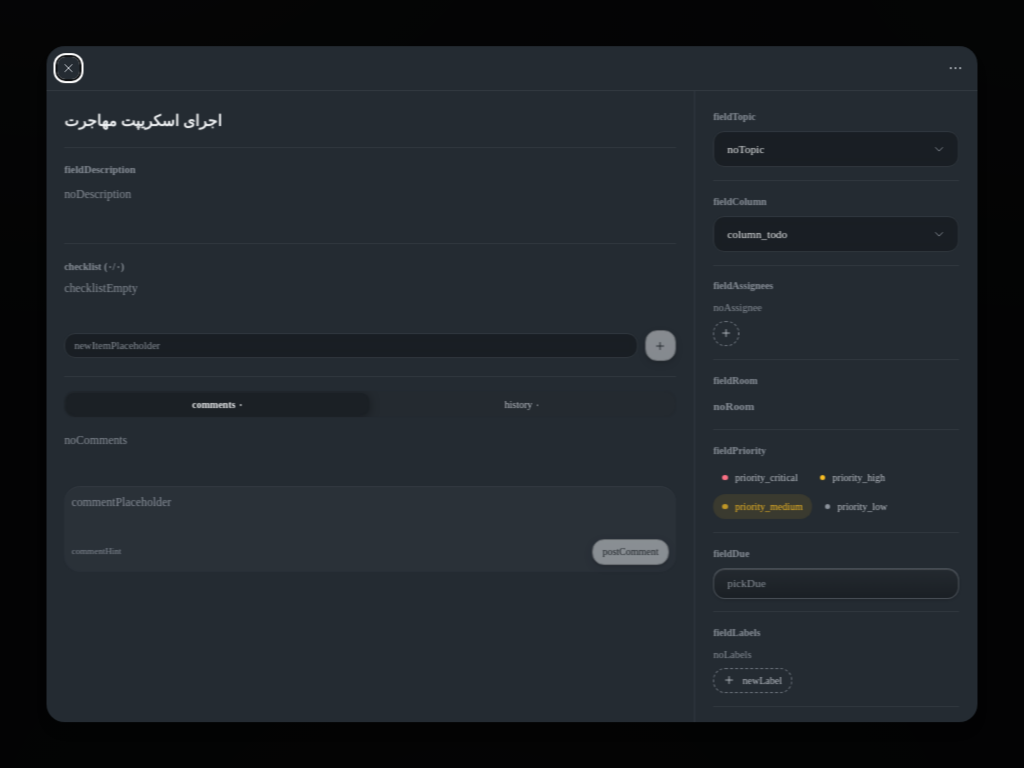
Scenario: the acts are all in one menu (2026-09-19) › edit and «mark done» are menu items, and neither is a button on the bar
The image size is (1024, 768).
Expected: the button "edit" is not shown
Expected: the button "markDone" is not shown
Click the button named "more": (956, 68) x1=945 y1=57 x2=967 y2=79
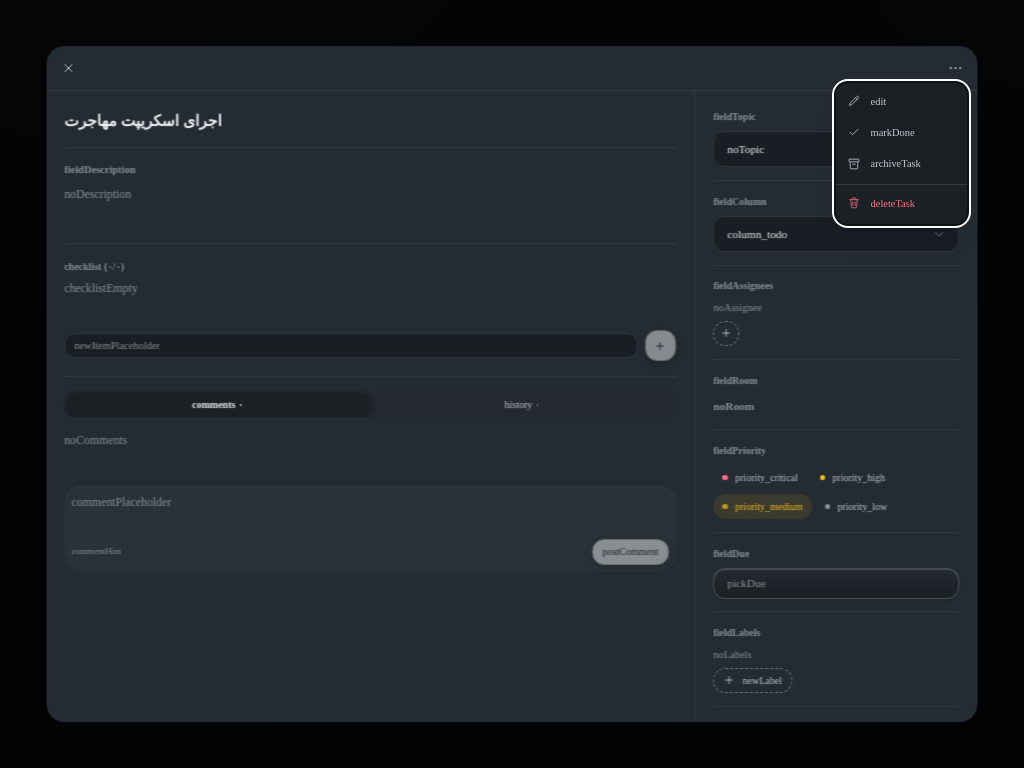
Expected: the menu item "edit" is shown, x1=847 y1=94 x2=886 y2=108
Expected: the menu item "markDone" is shown, x1=847 y1=125 x2=915 y2=139
